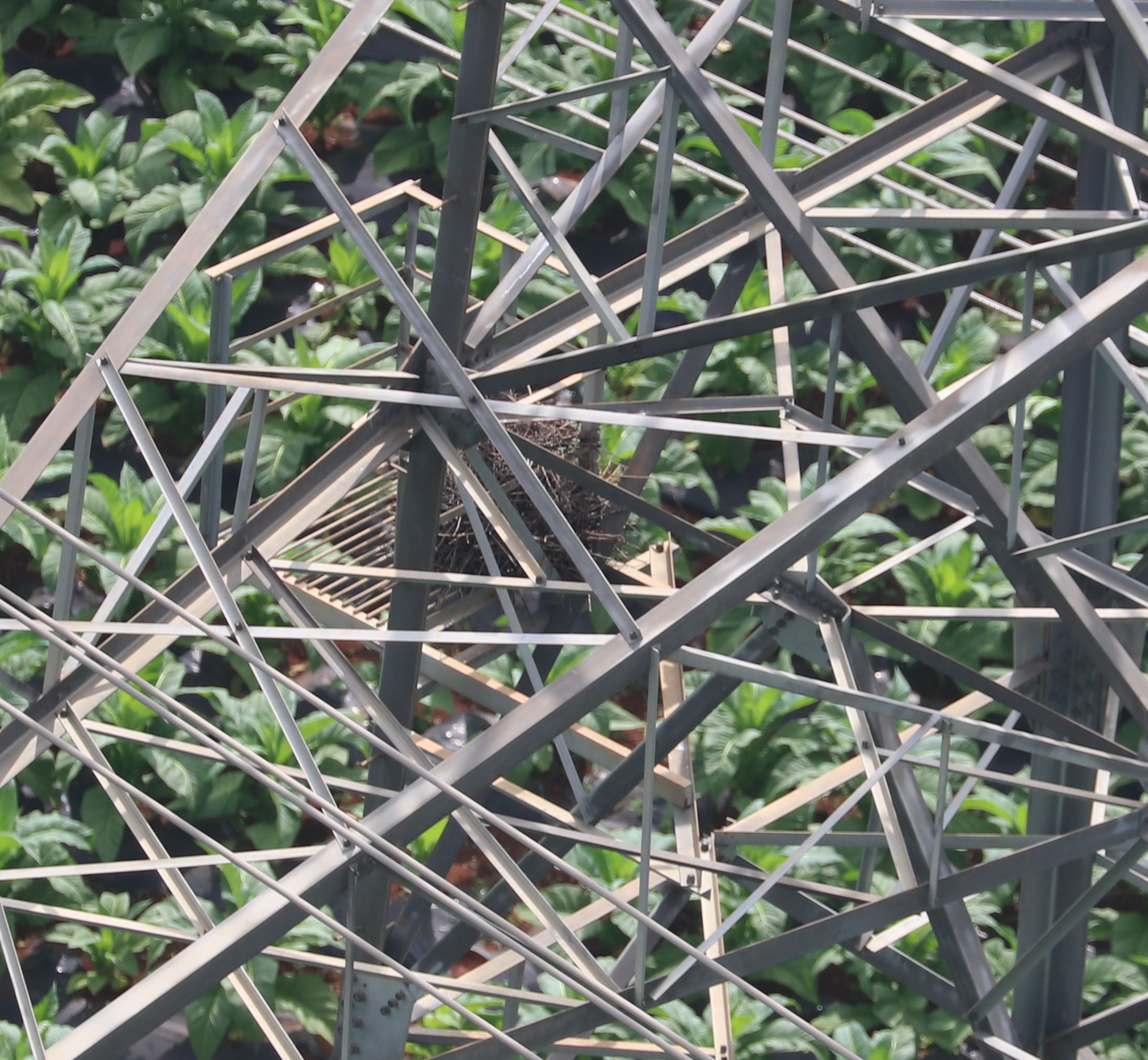nest: (412, 419, 639, 579)
